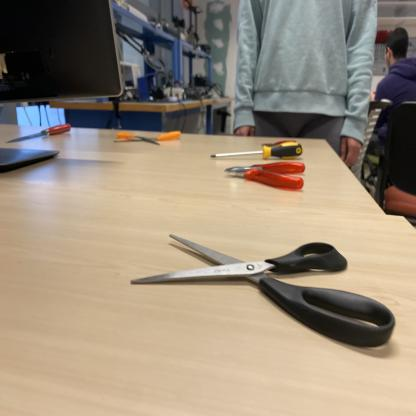scissors: (129, 230, 397, 355), (116, 127, 183, 148)
